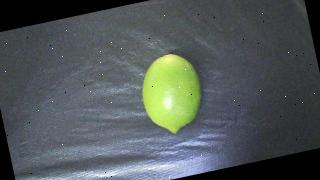LOCAL: (135, 49, 209, 138)
